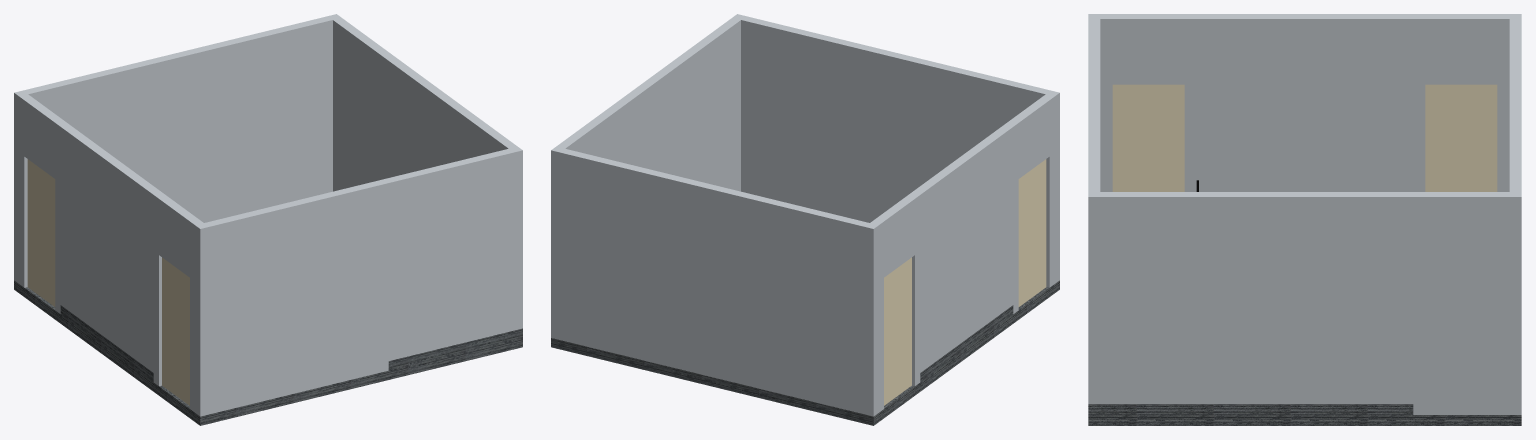
Rendered from room.glb.
The picture shows the model from 3 angles, left to right: view 1: azimuth 30°, elevation 25°; view 2: azimuth 150°, elevation 25°; view 3: azimuth 270°, elevation 25°; orthographic projection. The views are drawn at different scales.
Visible parts, largest first — view 1: object_1, object_31, object_29, object_30; view 2: object_1, object_31, object_30, object_29; view 3: object_1, object_31, object_29, object_30.
Boxes of the visible parts, x1,y1,x2,y2 form: object_1: [14, 14, 522, 416]; object_31: [14, 280, 522, 425]; object_29: [27, 159, 55, 306]; object_30: [162, 257, 189, 405]; object_1: [551, 14, 1059, 416]; object_31: [551, 280, 1059, 425]; object_30: [1018, 159, 1046, 306]; object_29: [884, 257, 911, 405]; object_1: [1088, 14, 1521, 414]; object_31: [1088, 404, 1521, 425]; object_29: [1425, 84, 1497, 191]; object_30: [1112, 84, 1184, 191].
Size of what is drawn, in the model's own units: 18 by 10.5 by 18.
Materials: 4 (1 with a texture image).
